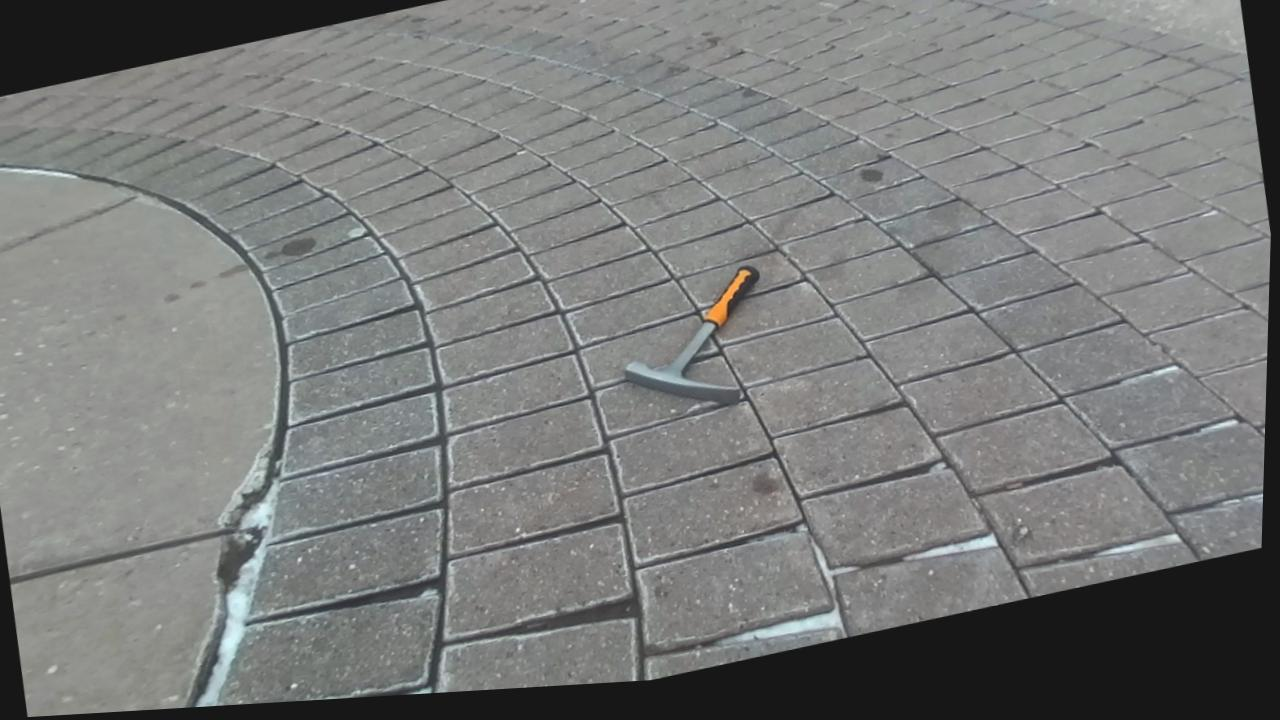pick: (625, 266, 759, 403)
